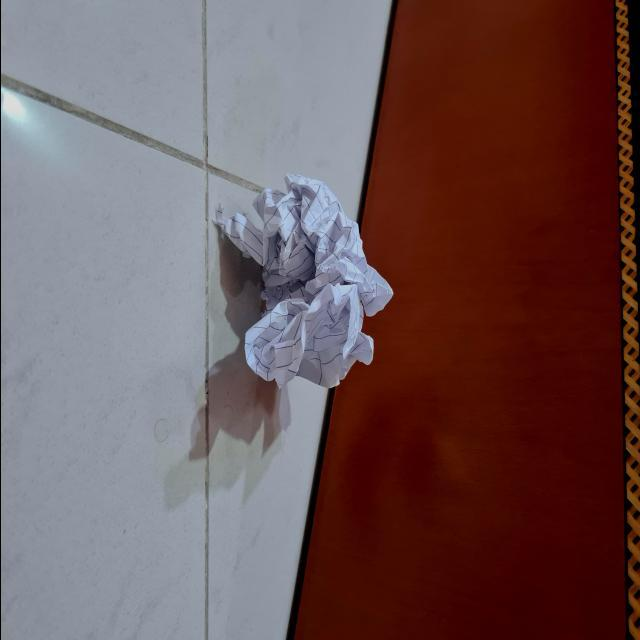Paper: (213, 160, 389, 407)
